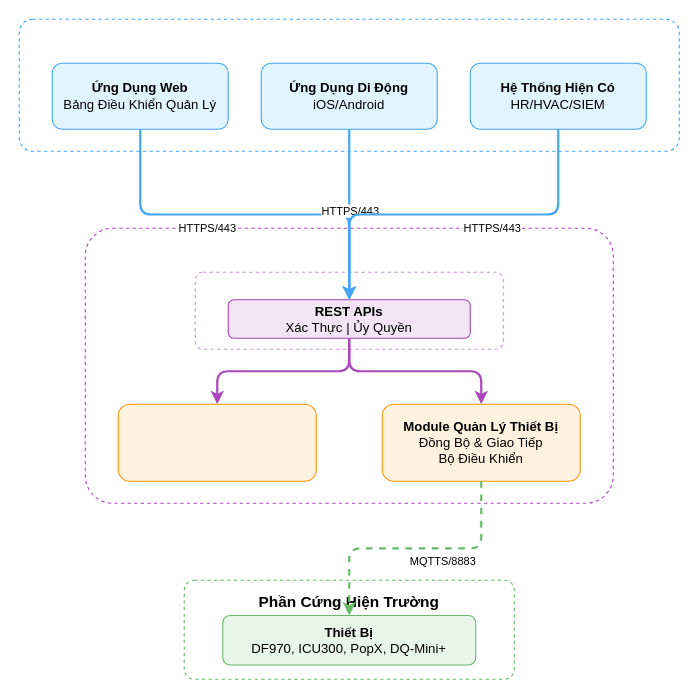
This 699x699 diagram has some shape labels left out. Each missing label, with the box of its shape:
Cơ Sở Dữ Liệu Người Dùng, Sự Kiện Quyền, Nhật Ký: (117, 403, 316, 481)
Lõi Duall Master: (84, 227, 613, 503)
Lớp API: (194, 271, 503, 349)
Môi Trường Khách Hàng: (18, 18, 679, 151)
